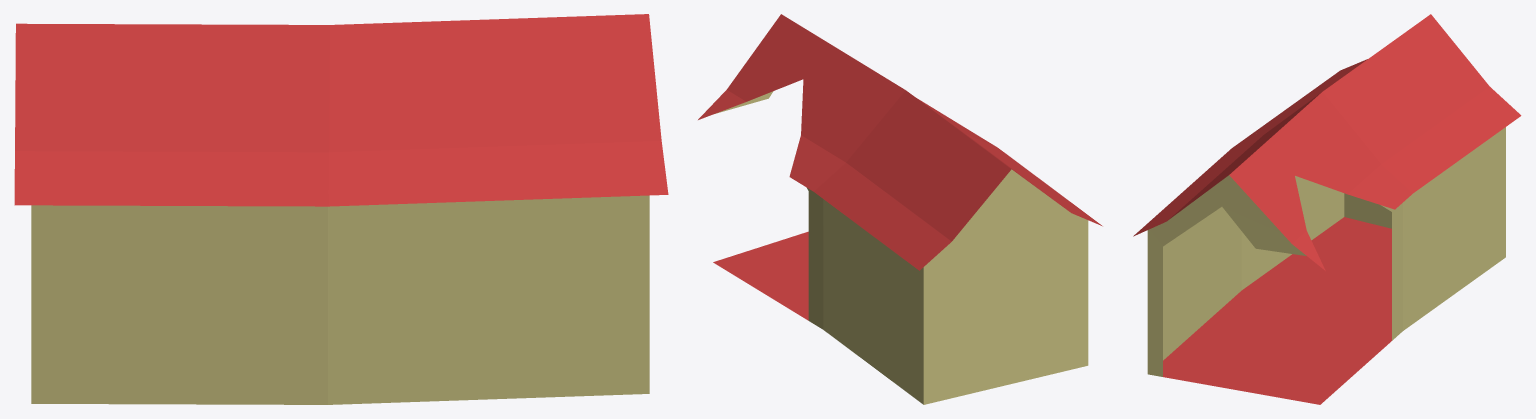
3 renders of one model, left to right at view 1: azimuth 30°, elevation 25°; view 2: azimuth 150°, elevation 25°; view 3: azimuth 270°, elevation 25°, orthographic. The views are drawn at different scales.
Bounding box in the file's own units: 31.32 × 25.66 × 15.93.
